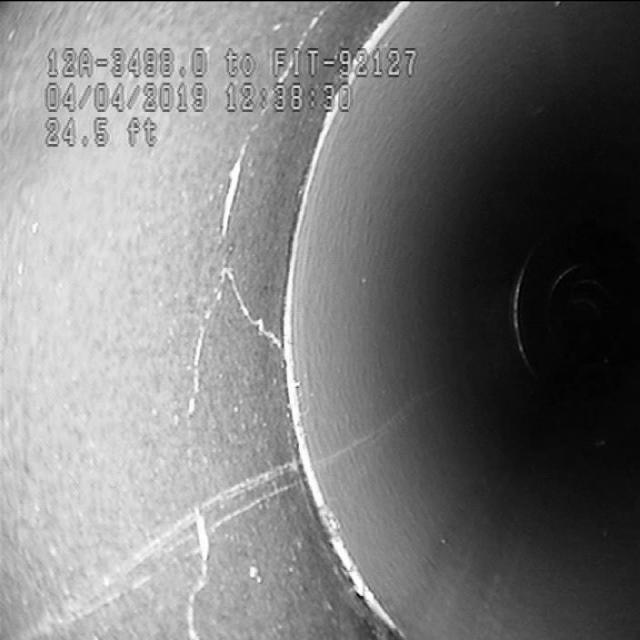Crack: (177, 231, 245, 638)
